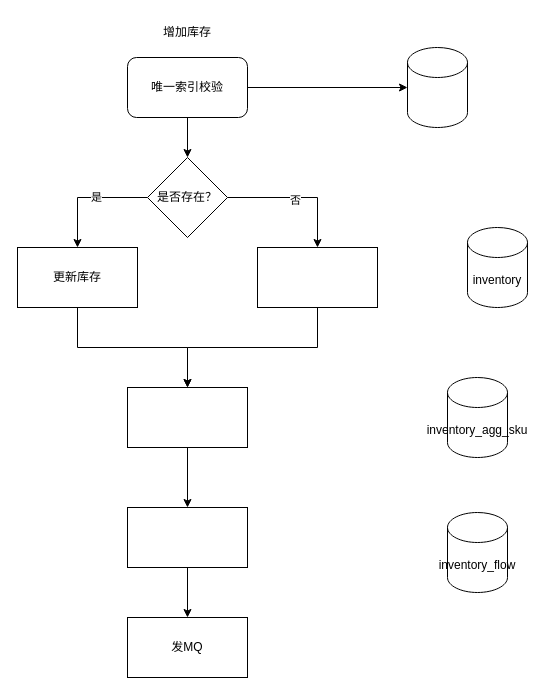
Some shapes in this 545 by 695 pixel diagram are drawn without their labels. Here are the shapes that lost their labels. From the top down, the centre of each, then its label:
the point at 437,87: inventory_order
the point at 317,277: 插入
the point at 187,417: 中央聚合库存处理
the point at 187,537: 操作流水处理
